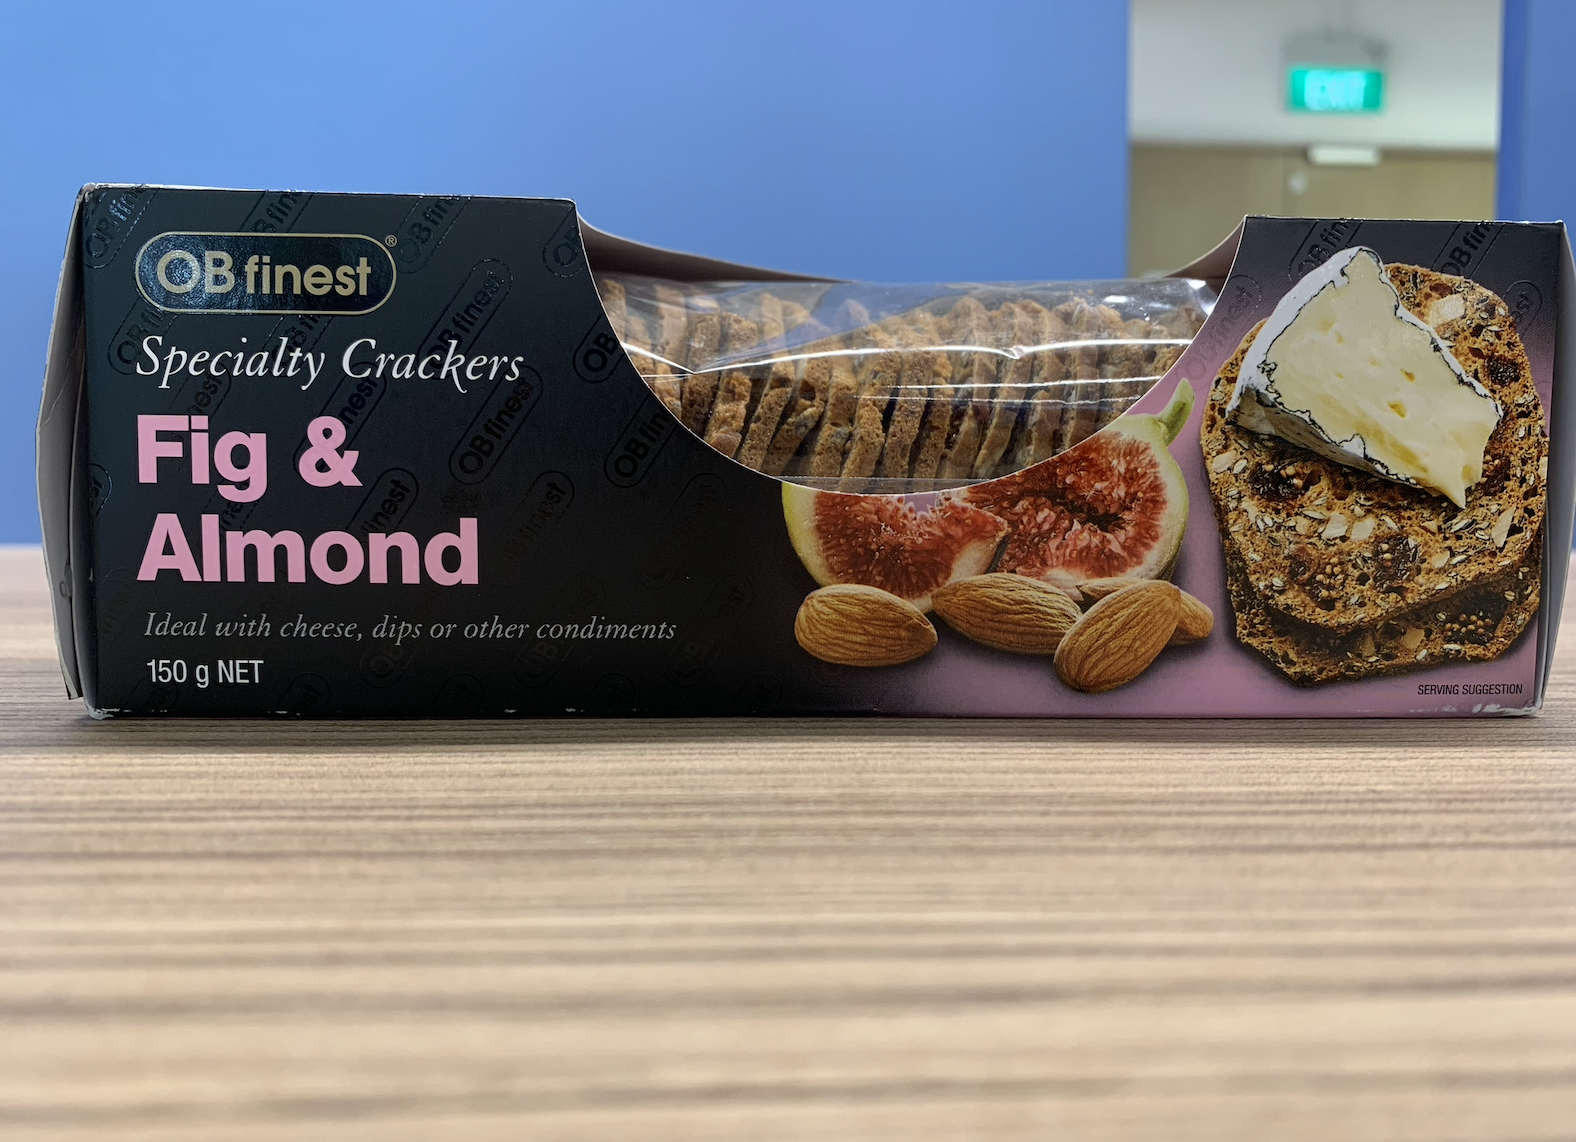crackers_100g-199g: (106, 239, 1507, 710)
